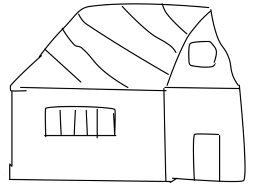big_house: (1, 0, 260, 190)
closed_window: (39, 100, 126, 142)
door: (184, 128, 229, 185)
open_window: (183, 39, 223, 73)
roof: (7, 0, 246, 96)
wall: (5, 84, 174, 186)
